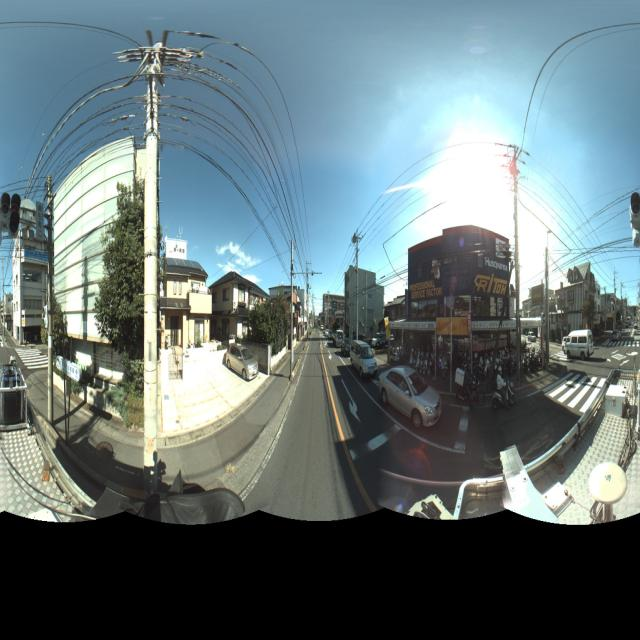b_1: (402, 237, 513, 379), (161, 244, 211, 368), (341, 262, 394, 354), (12, 232, 49, 356)
b_2: (220, 274, 296, 372)
